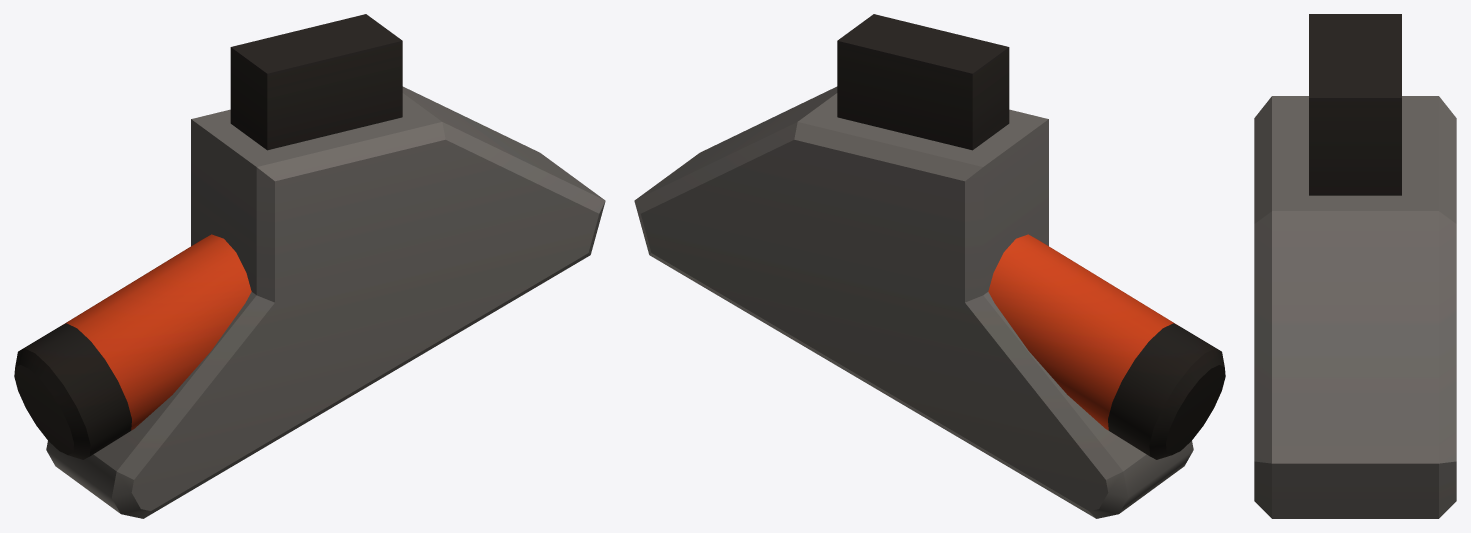
The model's file is AR8_Magazine.fbx.
3 views of the same model, side by side, from view 1: azimuth 30°, elevation 25°; view 2: azimuth 150°, elevation 25°; view 3: azimuth 270°, elevation 25° (orthographic). The views are drawn at different scales.
Visible parts, largest first — view 1: AR8_Magazine; view 2: AR8_Magazine; view 3: AR8_Magazine.
Boxes of the visible parts, left/top/right/bottom form: AR8_Magazine: left=14, top=14, right=605, bottom=518; AR8_Magazine: left=634, top=14, right=1225, bottom=518; AR8_Magazine: left=1254, top=14, right=1456, bottom=518.
Size of the model in its own units: 13.4 by 9.44 by 3.39.
